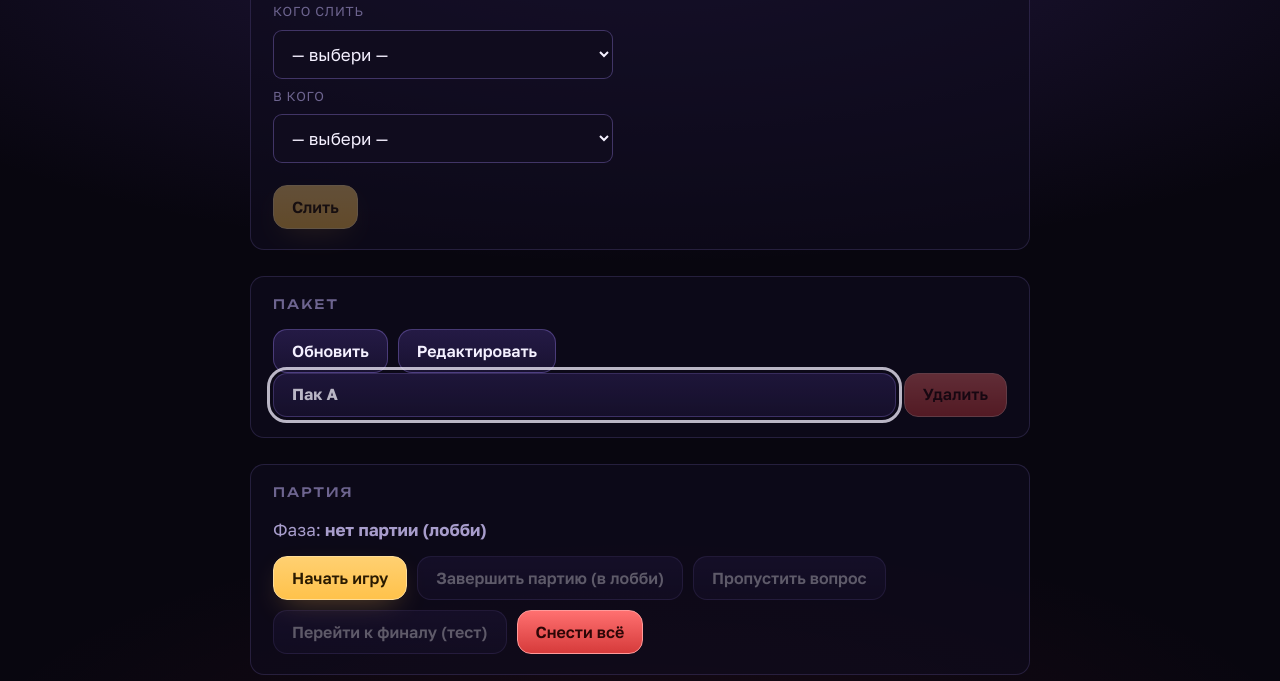
Admin — список и жалобы › switches to the grid when the "Сетка" radio is picked, hiding "Пожаловаться"
(page scrolled)
Click the button "Редактировать" at x=477, y=351, box [398,329,556,373]
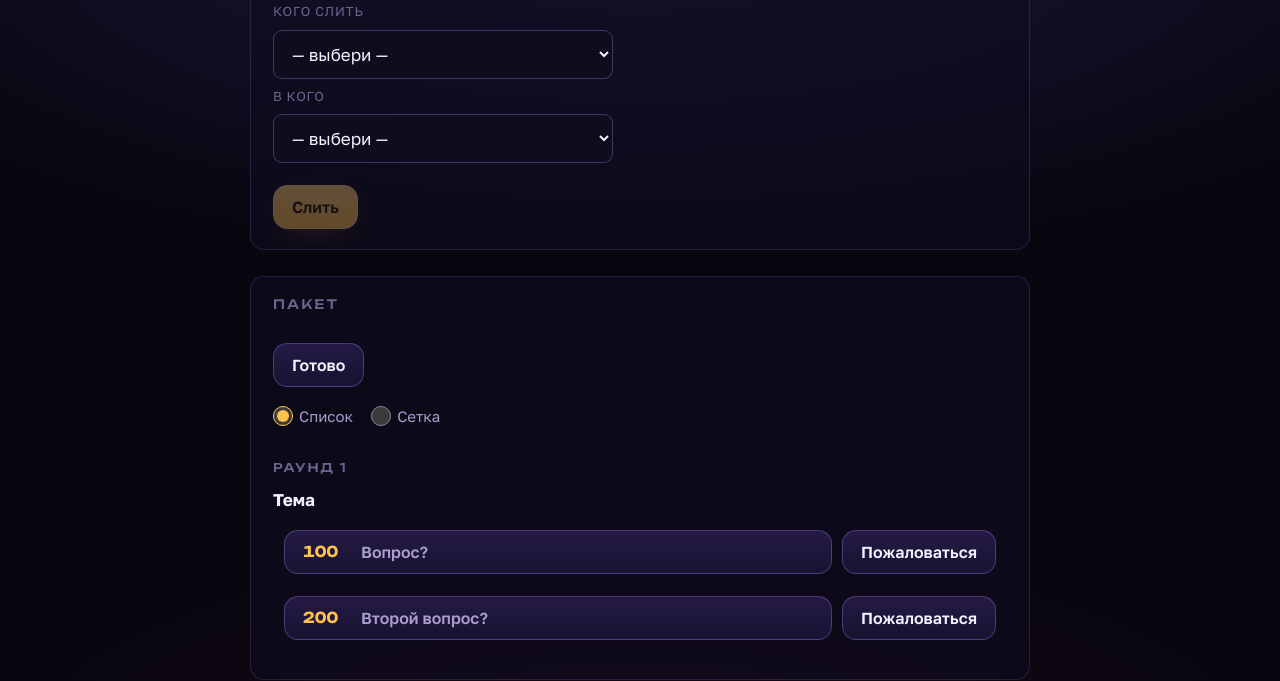
Click the radio button labelled "Сетка" at x=381, y=416, box [371,406,391,426]
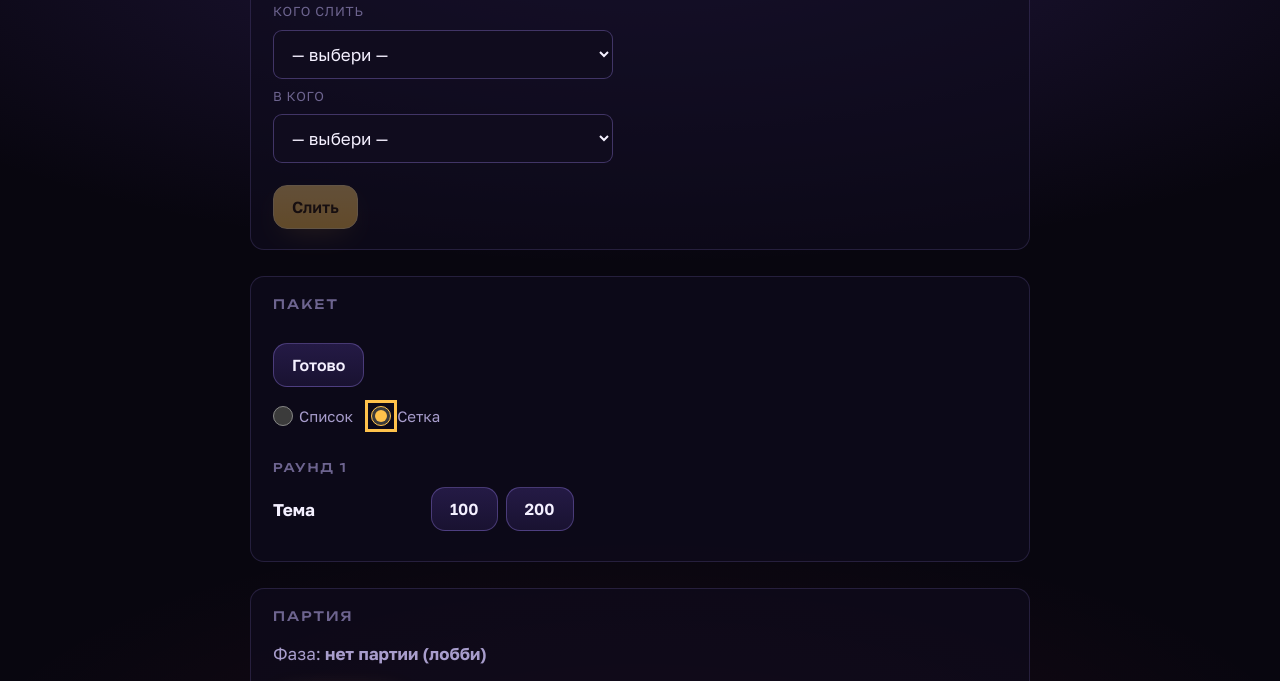
Now the button "100" is shown, box [431,487,498,531]
Now the button "Пожаловаться" is gone
